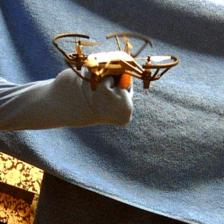drone: (54, 30, 178, 92)
